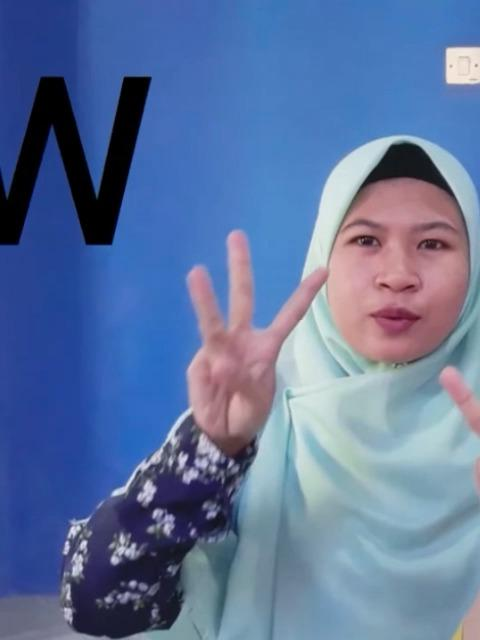W: (178, 224, 330, 438)
